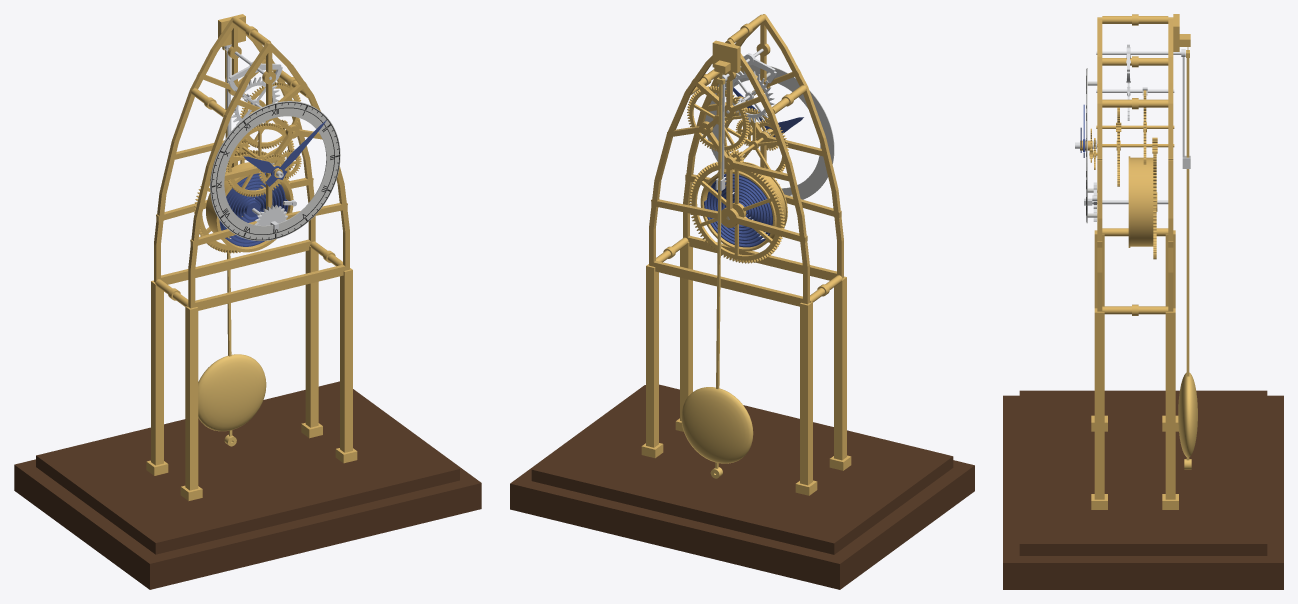
The model's file is clock.glb.
3 renders of one model, left to right at view 1: azimuth 30°, elevation 25°; view 2: azimuth 150°, elevation 25°; view 3: azimuth 270°, elevation 25°, orthographic. The views are drawn at different scales.
Parts seen in each view (by area): view 1: Base, Frame: columns, Frame: front plate, Frame: back plate, Dial (chapter ring), Pendulum, Barrel and great wheel, Mainspring, Frame: pillars, Centre wheel, Third wheel; view 2: Base, Frame: columns, Frame: back plate, Frame: front plate, Pendulum, Barrel and great wheel, Mainspring, Dial (chapter ring), Frame: pillars, Third wheel, Centre wheel, Suspension cock (+1 smaller); view 3: Base, Frame: columns, Pendulum, Barrel and great wheel, Frame: pillars, Frame: back plate, Frame: front plate, Third wheel, Centre wheel, Crutch, Dial (chapter ring), Anchor (pallets) (+2 smaller).
Part boxes in pixels (x1,y1,x2,y2): Base: (14,381,481,589); Frame: columns: (146,246,357,500); Frame: front plate: (188,41,349,310); Frame: back plate: (154,16,315,284); Dial (chapter ring): (210,101,340,240); Pendulum: (198,46,266,446); Barrel and great wheel: (194,150,293,253); Mainspring: (219,173,288,246); Frame: pillars: (155,17,342,306); Centre wheel: (225,122,294,196); Third wheel: (240,82,300,149); Base: (510,384,974,589); Frame: columns: (641,242,851,495); Frame: back plate: (649,39,809,306); Frame: front plate: (683,14,843,280); Pendulum: (681,72,753,478); Barrel and great wheel: (688,162,787,263); Mainspring: (704,173,772,247); Dial (chapter ring): (705,64,834,199); Frame: pillars: (656,14,842,302); Third wheel: (687,86,749,152); Centre wheel: (724,108,788,178); Suspension cock: (712,40,740,73); Base: (1003,390,1283,589); Frame: columns: (1091,230,1178,509); Pendulum: (1178,47,1197,469); Barrel and great wheel: (1128,152,1157,259); Frame: pillars: (1102,14,1168,315); Frame: back plate: (1168,17,1173,311); Frame: front plate: (1097,17,1102,311); Third wheel: (1096,90,1174,164); Centre wheel: (1097,107,1174,186); Crutch: (1181,49,1190,168); Dial (chapter ring): (1086,68,1097,223); Anchor (pallets): (1096,44,1181,82).
Size of the model in its own units: 0.24 by 0.3284 by 0.17.
